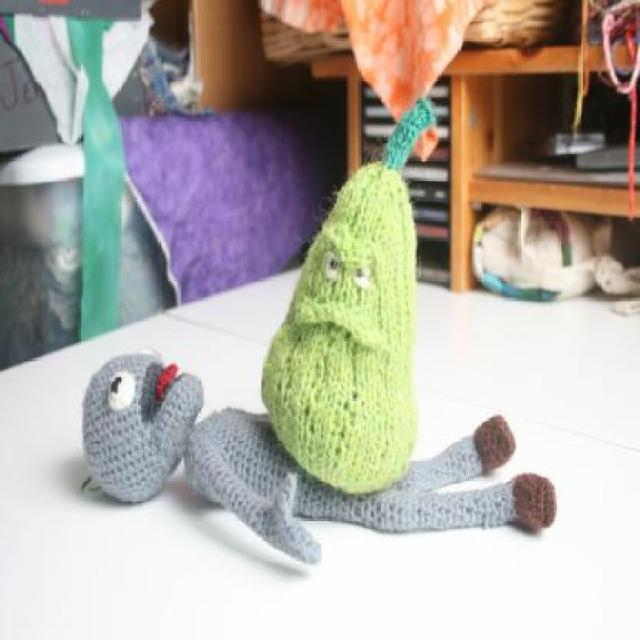Pear: (256, 102, 442, 493)
